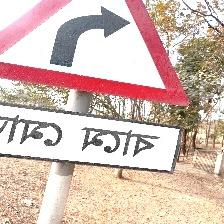Left-Turn: (0, 2, 184, 174)
